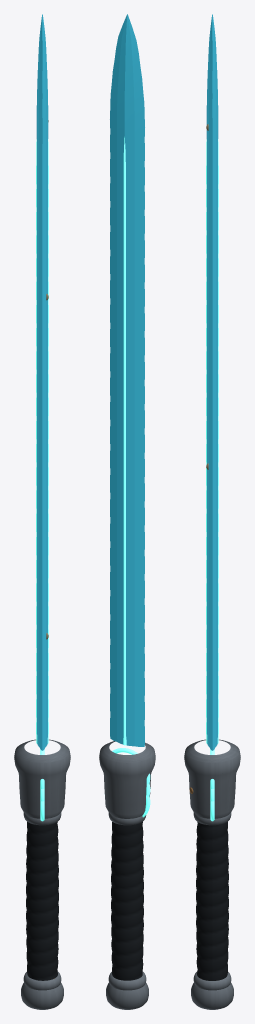
Rendered from light-blade.glb.
The picture shows the model from 3 angles, left to right: view 1: azimuth 90°, elevation 25°; view 2: azimuth 150°, elevation 25°; view 3: azimuth 270°, elevation 25°; orthographic projection.
Parts seen in each view (by area): view 1: crystal / faceted crystal, polymer / stippled polymer, alloy / machined anodized alloy, energy / emissive field channel; view 2: crystal / faceted crystal, polymer / stippled polymer, alloy / machined anodized alloy, energy / emissive field channel; view 3: crystal / faceted crystal, polymer / stippled polymer, alloy / machined anodized alloy, energy / emissive field channel.
Boxes of the visible parts, x1,y1,x2,y2 form: crystal / faceted crystal: [36, 14, 48, 750]; polymer / stippled polymer: [26, 822, 58, 980]; alloy / machined anodized alloy: [14, 739, 70, 1009]; energy / emissive field channel: [36, 139, 48, 821]; crystal / faceted crystal: [110, 14, 144, 746]; polymer / stippled polymer: [111, 822, 143, 980]; alloy / machined anodized alloy: [99, 741, 155, 1009]; energy / emissive field channel: [112, 137, 150, 817]; crystal / faceted crystal: [206, 14, 218, 750]; polymer / stippled polymer: [196, 822, 228, 980]; alloy / machined anodized alloy: [184, 739, 240, 1009]; energy / emissive field channel: [206, 139, 218, 821].
Bounding box in the file's own units: 0.0621 × 1.2 × 0.0621.
Materials: 6 (2 with a texture image).
